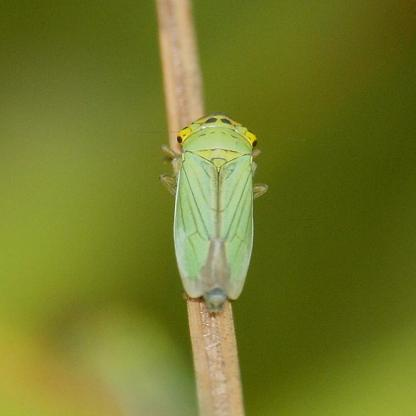Green-Leafhopper: (162, 110, 265, 320)
